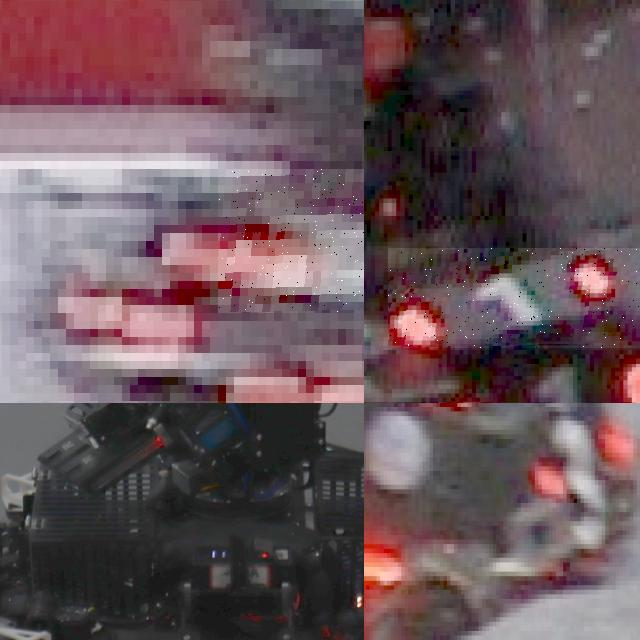R1: (387, 248, 640, 347), (423, 352, 640, 403)
R4: (218, 169, 364, 313)
